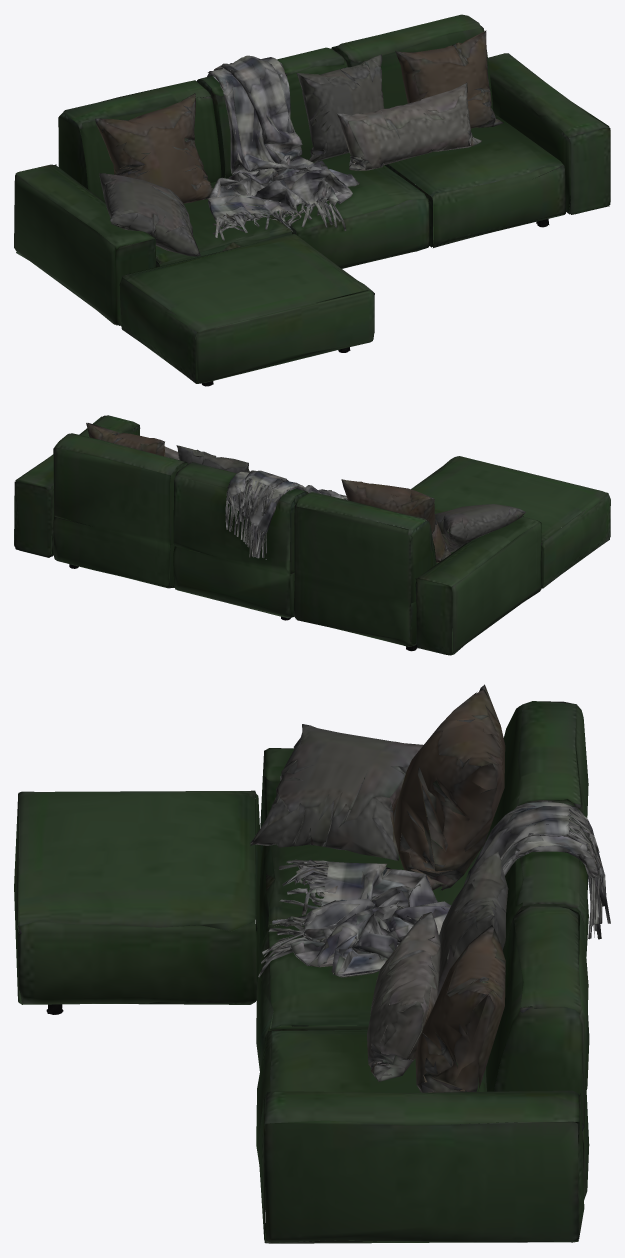
Rendered from sofa-14.glb.
3 views of the same model, one above another, from view 1: azimuth 30°, elevation 25°; view 2: azimuth 150°, elevation 25°; view 3: azimuth 270°, elevation 25° (orthographic). The views are drawn at different scales.
Parts seen in each view (by area): view 1: 4 L; view 2: 4 L; view 3: 4 L.
Part boxes in pixels (left/top/right/bottom): 4 L: left=14, top=14, right=610, bottom=386; 4 L: left=14, top=415, right=610, bottom=655; 4 L: left=14, top=684, right=610, bottom=1243.
Bounding box in the file's own units: 18.36 × 5.54 × 12.23.
Materials: 1 (1 with a texture image).
